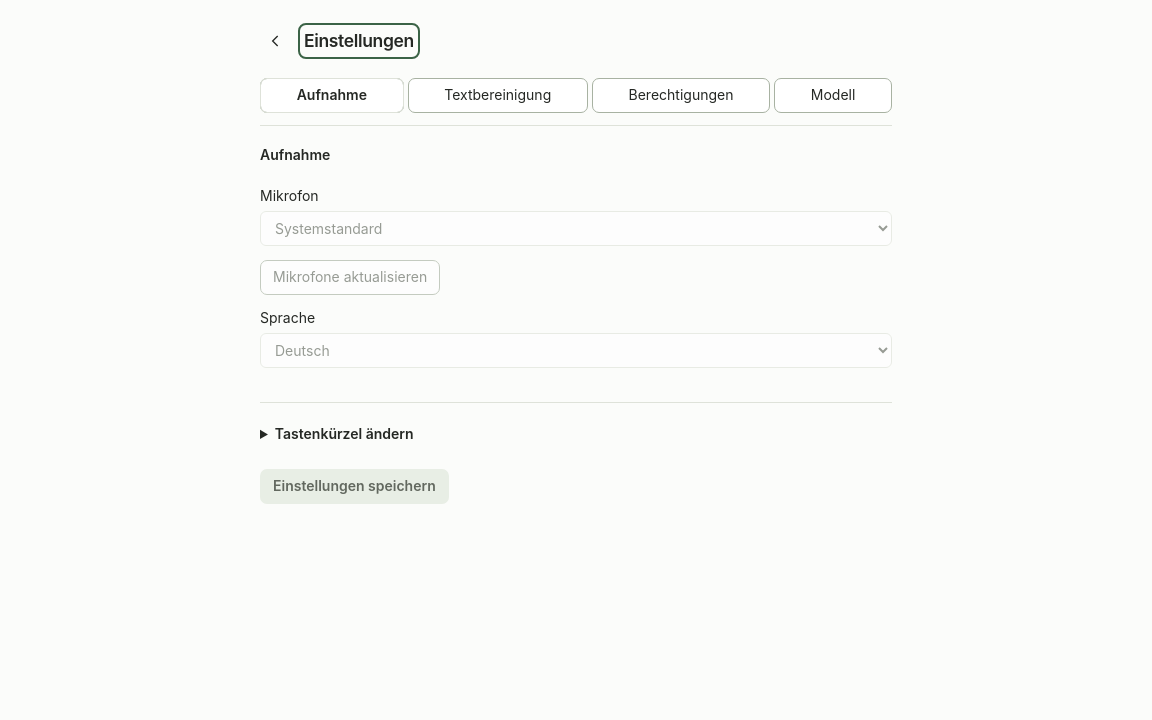
Scenario: settings edits are disabled during active session
Check: the element "Einstellungen" is shown, box [236, 0, 916, 719]
Step 1. Click the button named "Zurück zum Diktat" → (276, 41), box [260, 24, 292, 58]
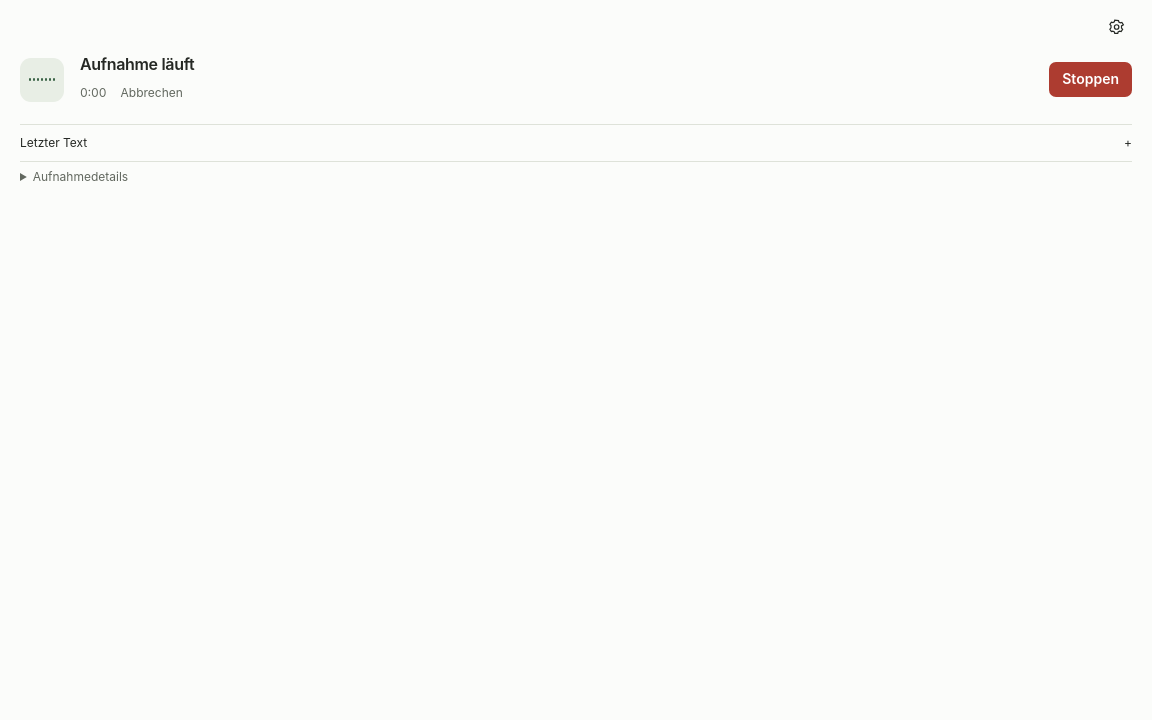
Check: the heading "Einstellungen" is gone
